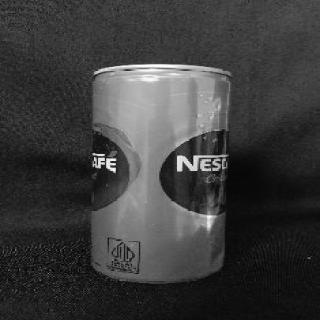alumunium_can: (90, 64, 233, 284)
